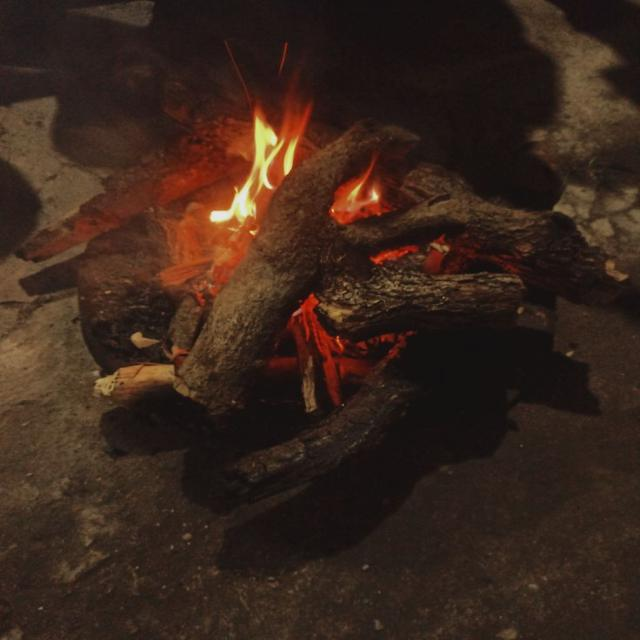fire: (209, 105, 297, 228), (332, 149, 385, 221)
